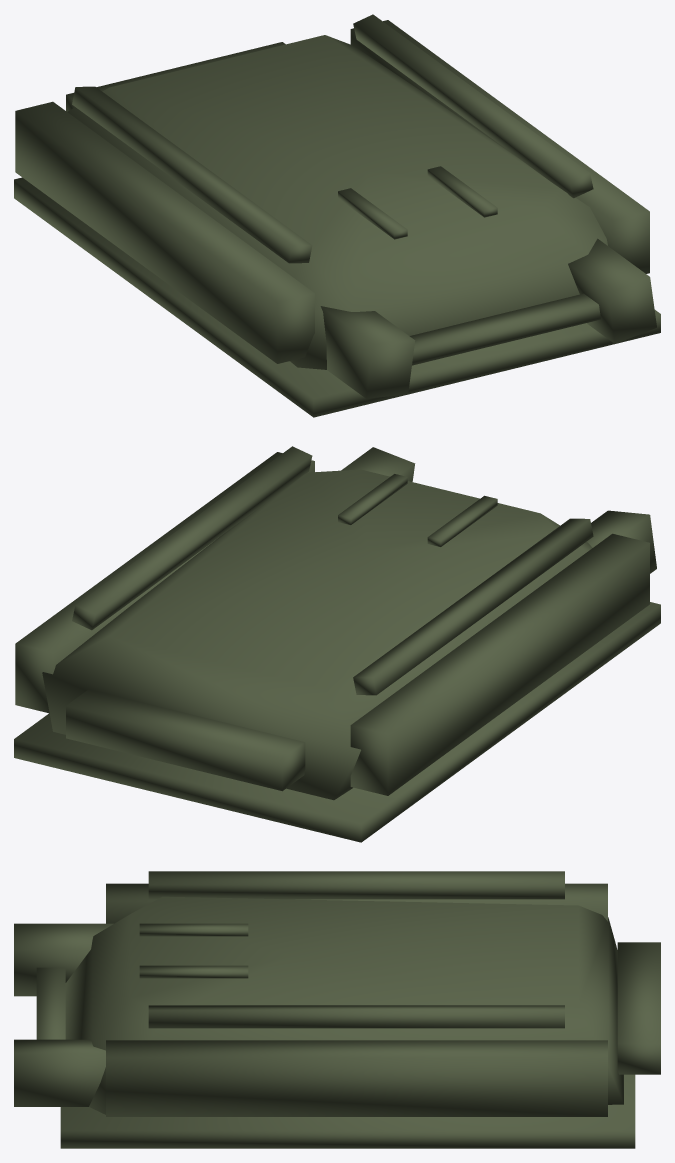
Rendered from harvester_hull.obj.
3 renders of one model, top to bottom at view 1: azimuth 30°, elevation 25°; view 2: azimuth 150°, elevation 25°; view 3: azimuth 270°, elevation 25°, orthographic. The views are drawn at different scales.
Parts seen in each view (by area): view 1: harvester_hull; view 2: harvester_hull; view 3: harvester_hull.
Boxes of the visible parts, bbox=[...] form: harvester_hull: bbox=[14, 14, 660, 417]; harvester_hull: bbox=[14, 446, 660, 842]; harvester_hull: bbox=[14, 871, 660, 1148].
Size of the model in its own units: 4.56 by 1.54 by 7.15.
